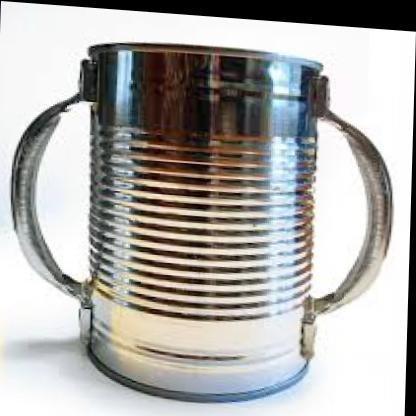trash: (11, 43, 392, 400)
